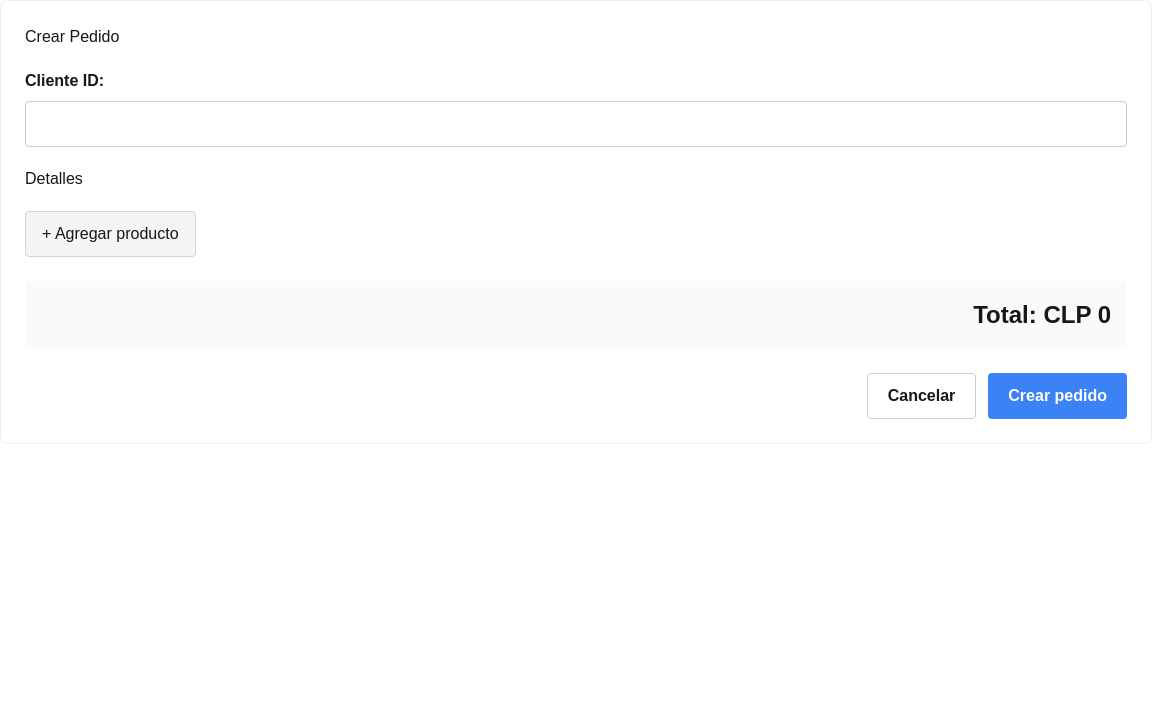
Scenario: botón agregar producto añade línea al formulario
The width and height of the screenshot is (1152, 720).
Click the button "+ Agregar producto".
click(110, 234)  # box [25,211,196,257]
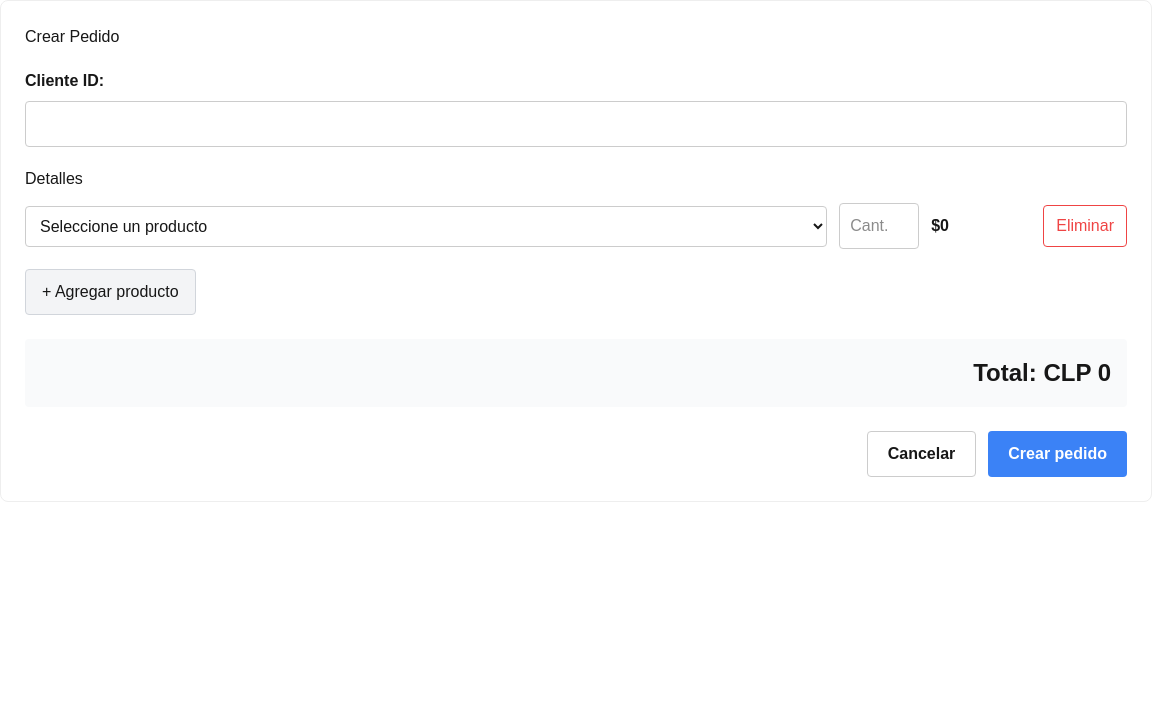
Check: the number of dropdowns is 1, box [25,206,827,246]
